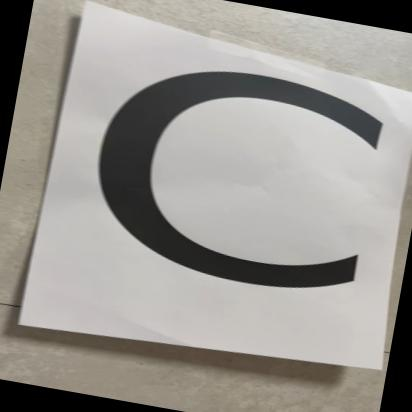seat: (13, 0, 412, 392)
